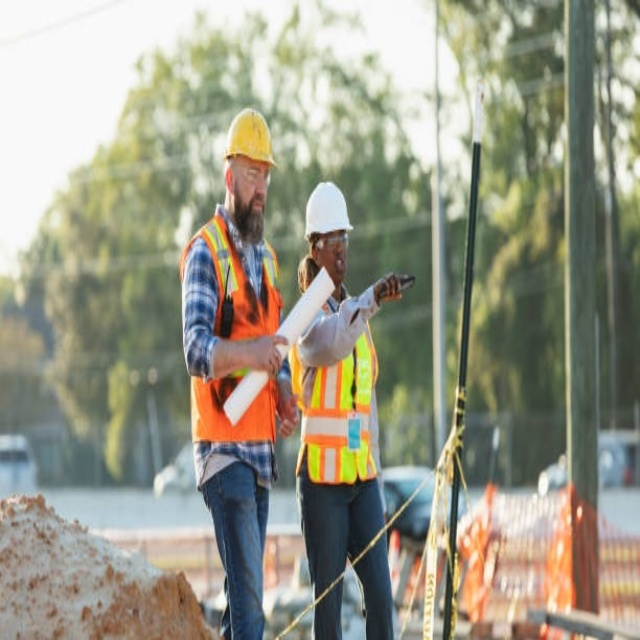Gafas: (232, 166, 271, 192), (314, 231, 350, 249)
Sin_guantes: (254, 334, 293, 375), (373, 272, 413, 306), (275, 382, 300, 434)
Sin_mascara: (245, 193, 267, 222), (332, 255, 347, 278)
